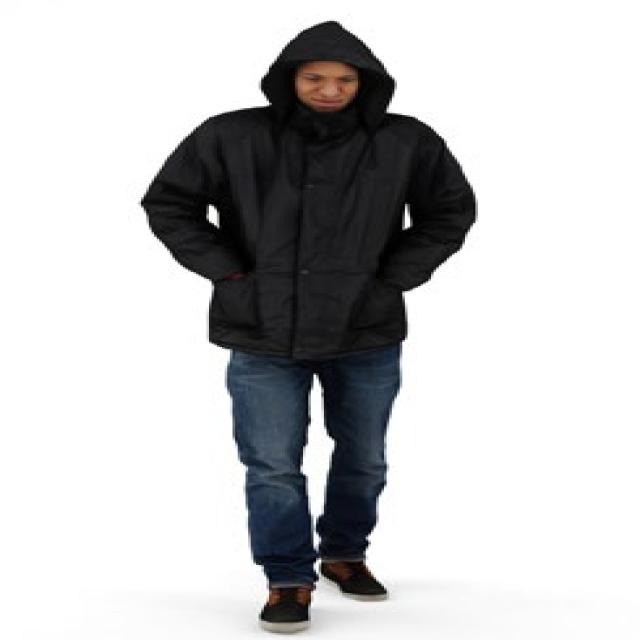standing: (133, 14, 480, 635)
